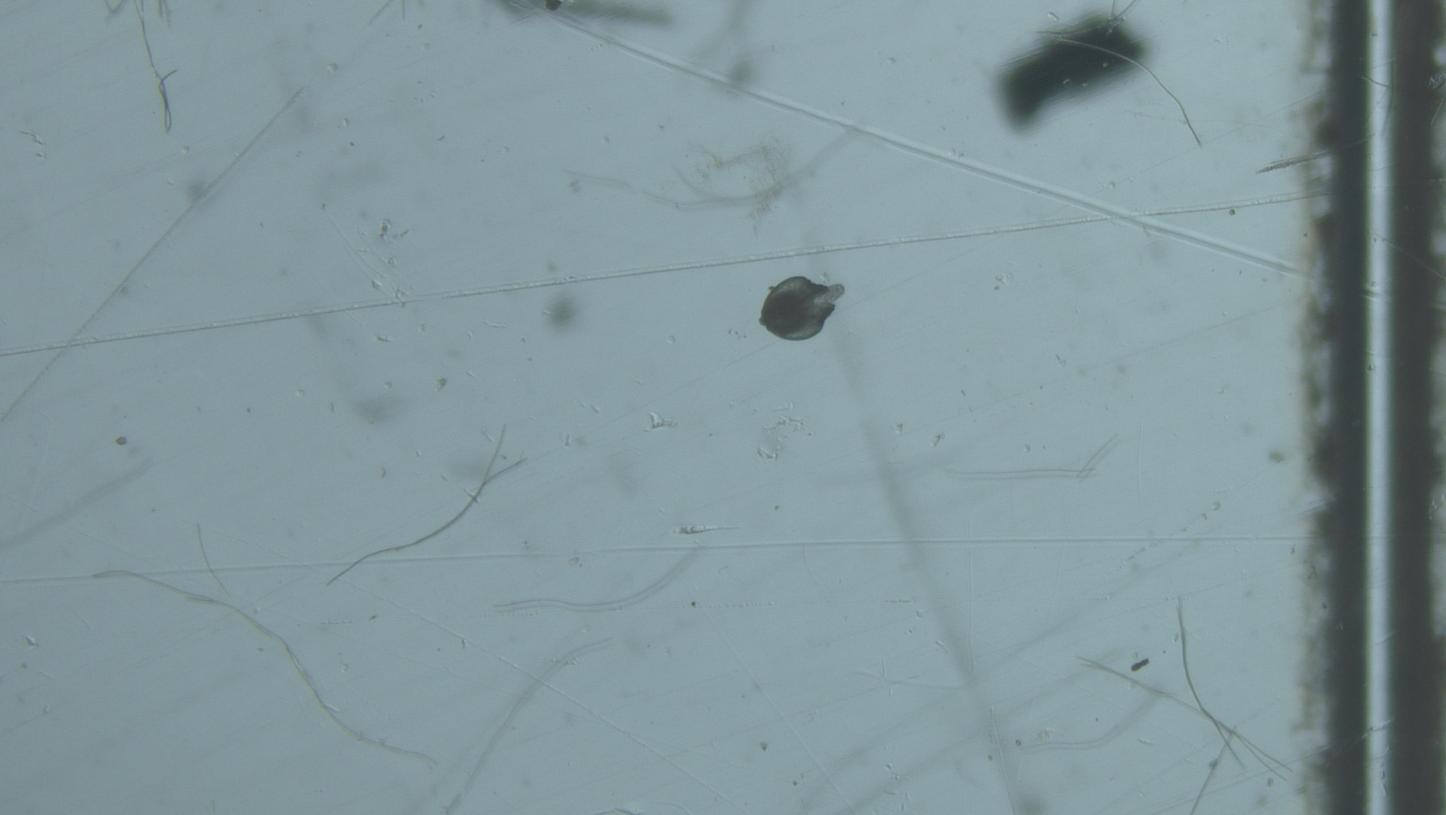live: (760, 277, 844, 341)
